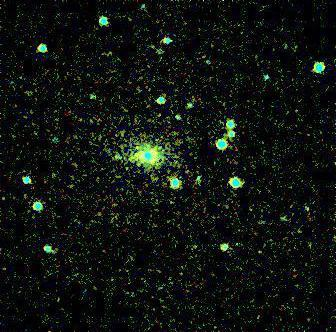star: (134, 31, 164, 61)
